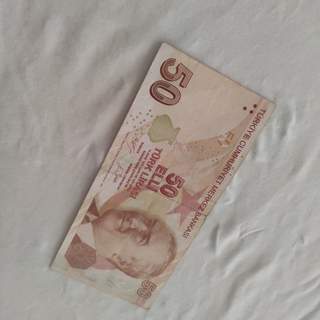50TLFront: (49, 41, 276, 311)
